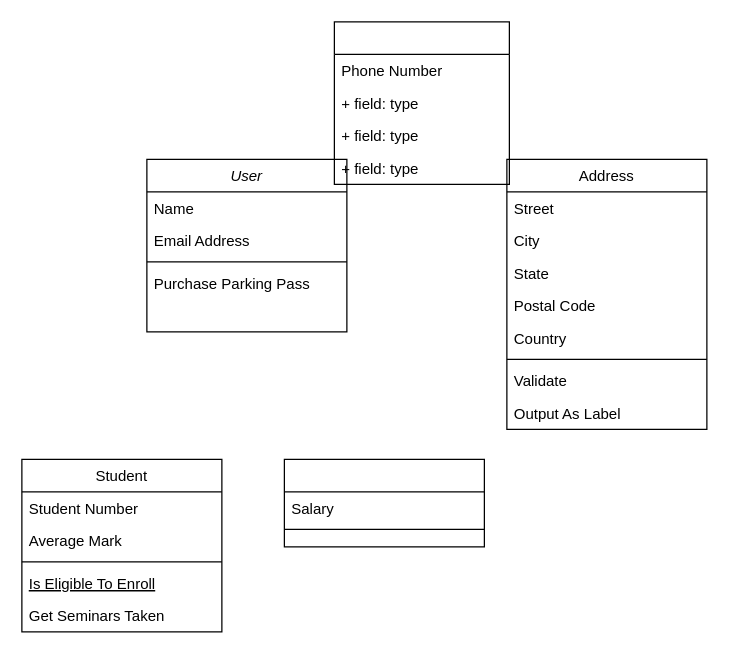
This 729x658 diagram has some shape labels left out. The shapes that lost their labels are listed below. From the top down, each one's box as (x1, y1, x2, y2) in pixels, then its label:
(333, 21, 509, 184): Classname
(283, 458, 484, 547): Professor
